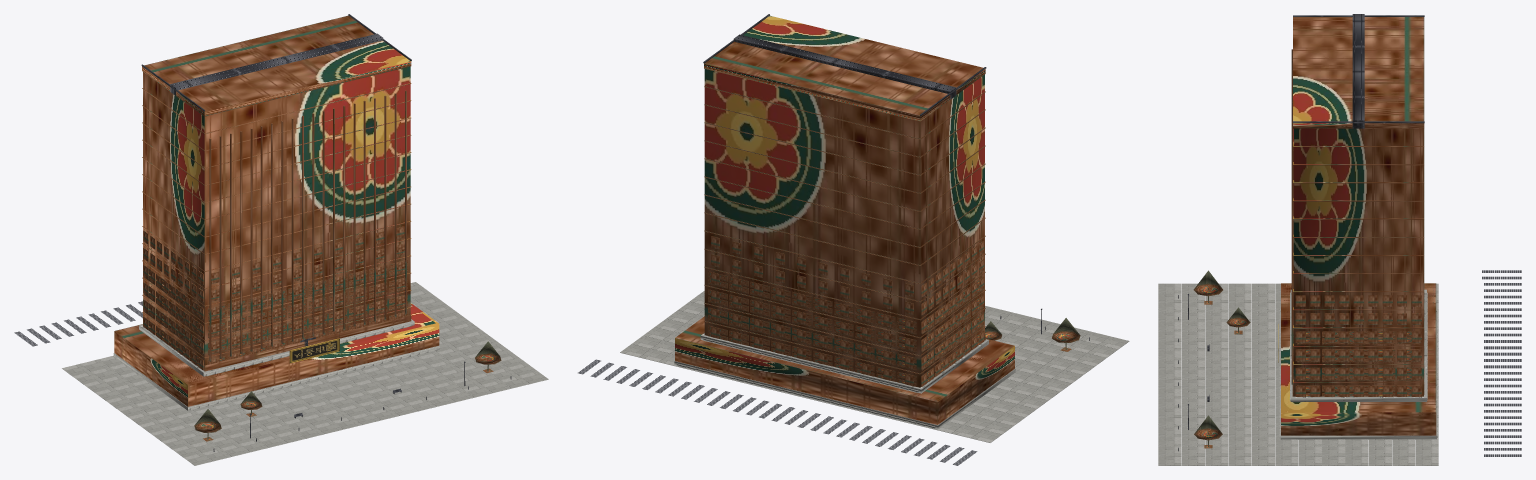
3 renders of one model, left to right at view 1: azimuth 30°, elevation 25°; view 2: azimuth 150°, elevation 25°; view 3: azimuth 270°, elevation 25°, orthographic. The views are drawn at different scales.
Visible parts, largest first — view 1: 11140_02_04524_018_02__mass_body_facade, 11140_02_04524_018_01__plinth_ground_base, 11140_02_04524_018_05__window_sash_glass, 11140_02_04524_018_03__roof_metal_ornament, 11140_02_04524_018_06__landscape_greenery, 11140_02_04524_018_03__roof_deck_structure, 11140_02_04524_018_04__sign_board; view 2: 11140_02_04524_018_02__mass_body_facade, 11140_02_04524_018_01__plinth_ground_base, 11140_02_04524_018_03__roof_deck_structure, 11140_02_04524_018_03__roof_metal_ornament, 11140_02_04524_018_06__landscape_greenery; view 3: 11140_02_04524_018_02__mass_body_facade, 11140_02_04524_018_01__plinth_ground_base, 11140_02_04524_018_03__roof_deck_structure, 11140_02_04524_018_03__roof_metal_ornament, 11140_02_04524_018_06__landscape_greenery.
Part boxes in pixels (x1=…): 11140_02_04524_018_02__mass_body_facade: x1=114, y1=15, x2=439, y2=406; 11140_02_04524_018_01__plinth_ground_base: x1=62, y1=282, x2=548, y2=465; 11140_02_04524_018_05__window_sash_glass: x1=211, y1=243, x2=404, y2=364; 11140_02_04524_018_03__roof_metal_ornament: x1=141, y1=14, x2=411, y2=111; 11140_02_04524_018_06__landscape_greenery: x1=194, y1=341, x2=501, y2=441; 11140_02_04524_018_03__roof_deck_structure: x1=14, y1=301, x2=142, y2=346; 11140_02_04524_018_04__sign_board: x1=290, y1=339, x2=339, y2=362; 11140_02_04524_018_02__mass_body_facade: x1=675, y1=15, x2=1014, y2=424; 11140_02_04524_018_01__plinth_ground_base: x1=620, y1=291, x2=1129, y2=442; 11140_02_04524_018_03__roof_deck_structure: x1=578, y1=359, x2=977, y2=465; 11140_02_04524_018_03__roof_metal_ornament: x1=703, y1=14, x2=986, y2=116; 11140_02_04524_018_06__landscape_greenery: x1=985, y1=318, x2=1080, y2=351; 11140_02_04524_018_02__mass_body_facade: x1=1281, y1=17, x2=1436, y2=435; 11140_02_04524_018_01__plinth_ground_base: x1=1158, y1=283, x2=1438, y2=465; 11140_02_04524_018_03__roof_deck_structure: x1=1482, y1=270, x2=1521, y2=456; 11140_02_04524_018_03__roof_metal_ornament: x1=1293, y1=14, x2=1424, y2=128; 11140_02_04524_018_06__landscape_greenery: x1=1193, y1=270, x2=1250, y2=448.
Size of the model in its own units: 88.3 by 67.8 by 72.47.
Materials: 7 (7 with a texture image).
